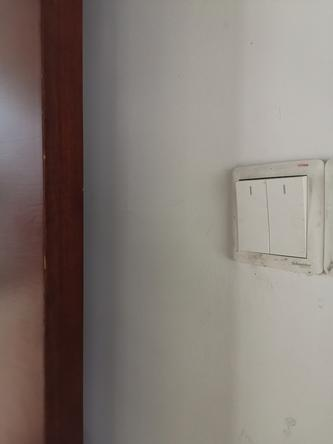switch: (261, 171, 314, 262), (233, 174, 271, 257)
